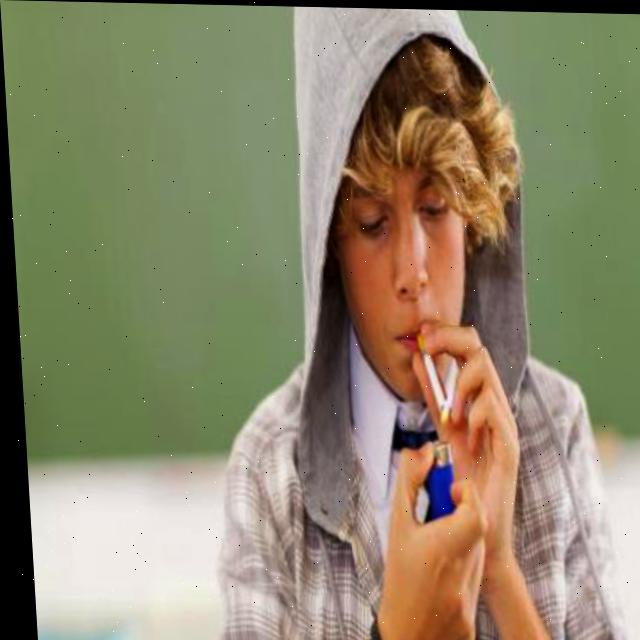cigarette: (412, 331, 445, 417)
